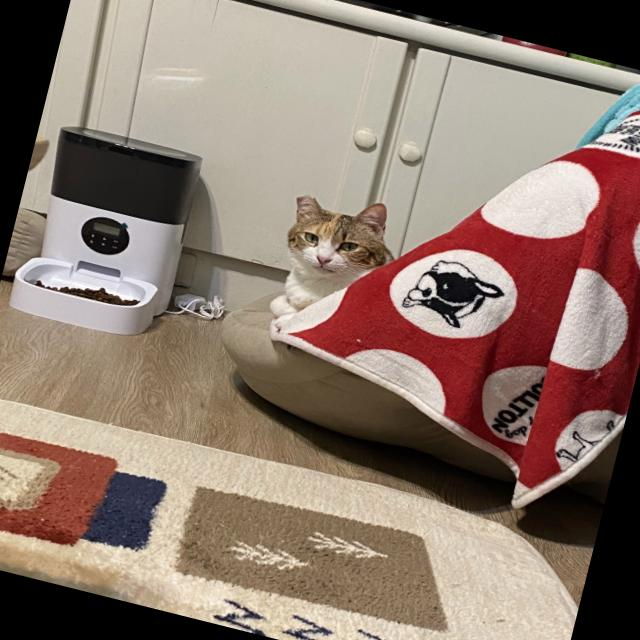cat2: (258, 183, 418, 346)
